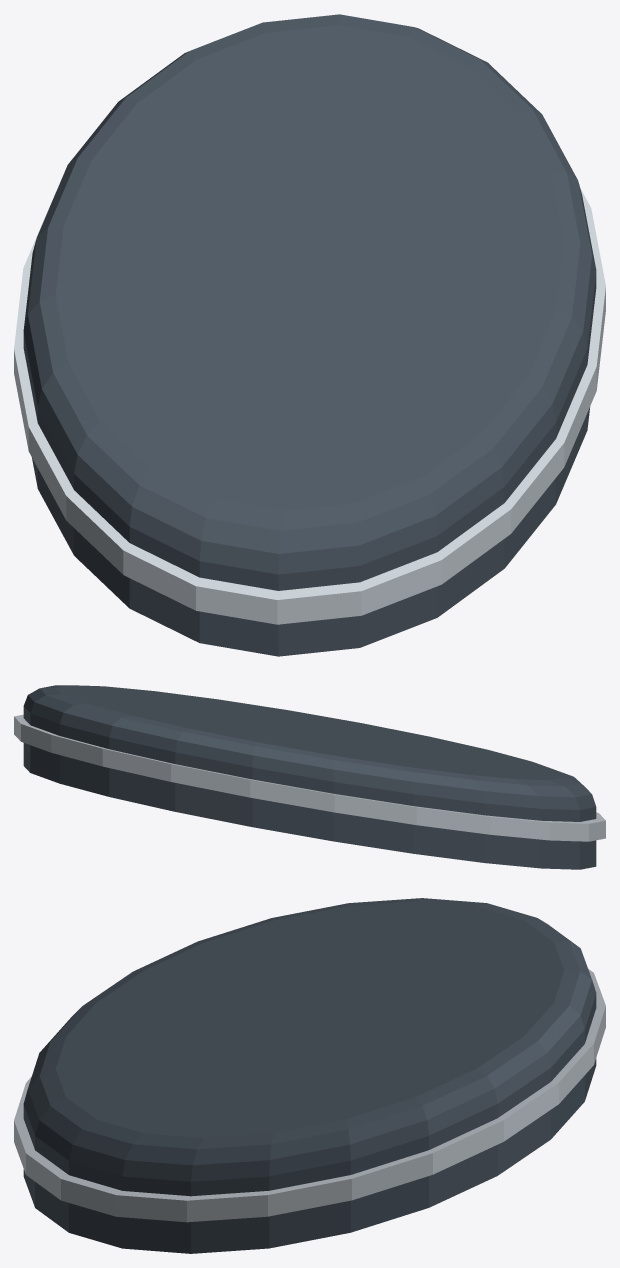
The model's file is Button_ResetBase.gltf.
The picture shows the model from 3 angles, top to bottom: view 1: azimuth 30°, elevation 25°; view 2: azimuth 150°, elevation 25°; view 3: azimuth 270°, elevation 25°; orthographic projection. The views are drawn at different scales.
Visible parts, largest first — view 1: Button_ResetBase_baked; view 2: Button_ResetBase_baked; view 3: Button_ResetBase_baked.
Boxes of the visible parts, bbox=[...] form: Button_ResetBase_baked: bbox=[14, 14, 605, 656]; Button_ResetBase_baked: bbox=[14, 685, 605, 869]; Button_ResetBase_baked: bbox=[14, 898, 605, 1253].
Bounding box in the file's own units: 0.8004 × 0.4146 × 0.744.
